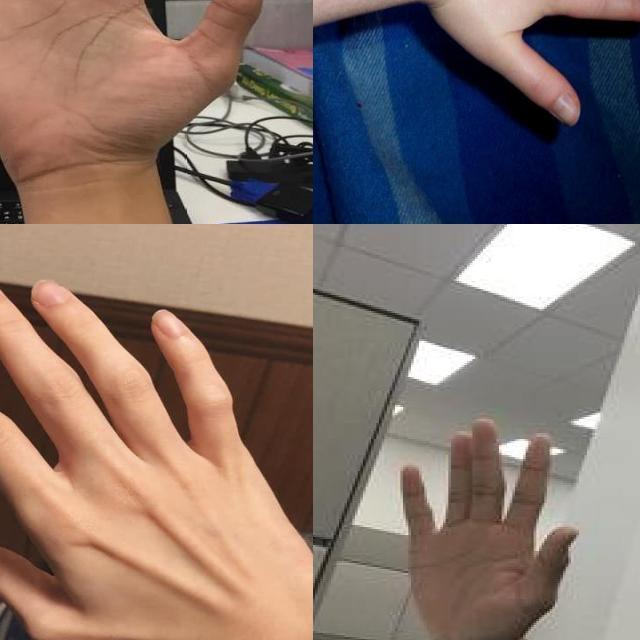no-gloves: (0, 269, 313, 640), (0, 0, 283, 182), (397, 419, 584, 640), (419, 0, 640, 155)
